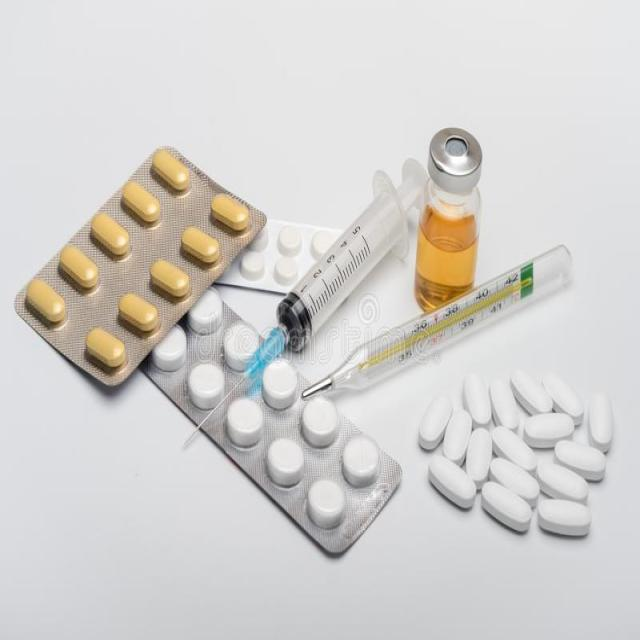B3: (175, 157, 412, 460), (7, 123, 250, 393), (218, 361, 394, 568), (403, 115, 498, 312)
